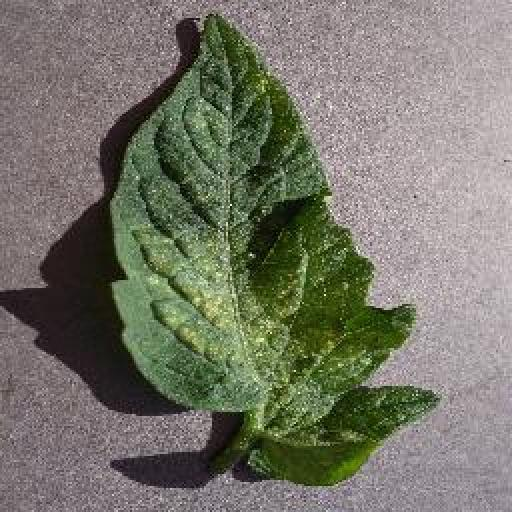disease_tomato: (112, 11, 439, 485)
